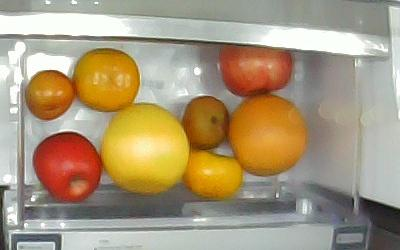apple: (33, 130, 101, 200), (218, 43, 294, 96)
grapefruit: (99, 103, 190, 194), (228, 95, 307, 177)
persimmon: (73, 48, 140, 113), (181, 149, 243, 196)
prune: (25, 70, 75, 122), (181, 96, 228, 148)
